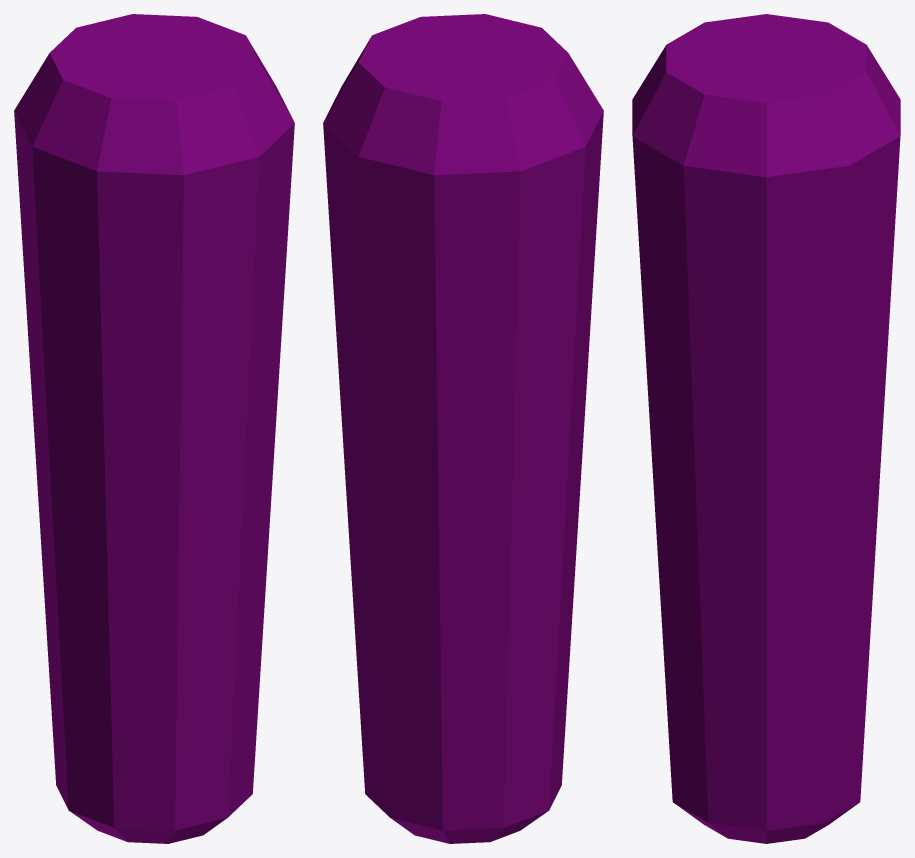
The model's file is Jem_33.fbx.
3 views of the same model, side by side, from view 1: azimuth 30°, elevation 25°; view 2: azimuth 150°, elevation 25°; view 3: azimuth 270°, elevation 25° (orthographic).
Parts seen in each view (by area): view 1: Jem_33; view 2: Jem_33; view 3: Jem_33.
Part boxes in pixels (box(x1,y1,x2,y2)): Jem_33: box(14, 14, 294, 843); Jem_33: box(323, 14, 603, 843); Jem_33: box(632, 14, 900, 843).
Size of the model in its own units: 40 by 119 by 38.04.
